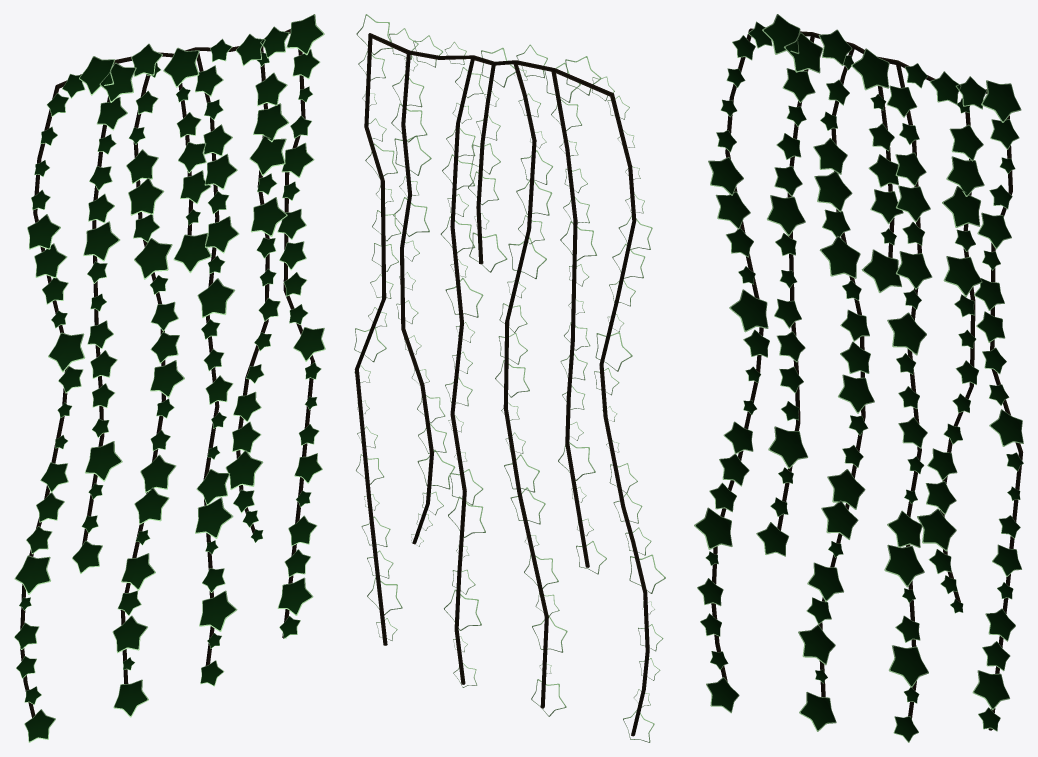
File: Prop_Vines.FBX
The picture shows the model from 3 angles, left to right: view 1: azimuth 30°, elevation 25°; view 2: azimuth 150°, elevation 25°; view 3: azimuth 330°, elevation 25°; orthographic projection. The views are drawn at different scales.
Visible parts, largest first — view 1: Prop_Vines; view 2: Prop_Vines; view 3: Prop_Vines.
Part boxes in pixels (x1,y1,x2,y2): Prop_Vines: [14, 14, 325, 742]; Prop_Vines: [354, 14, 665, 742]; Prop_Vines: [694, 14, 1023, 742].
Bounding box in the file's own units: 40.92 × 84.5 × 1.45.
